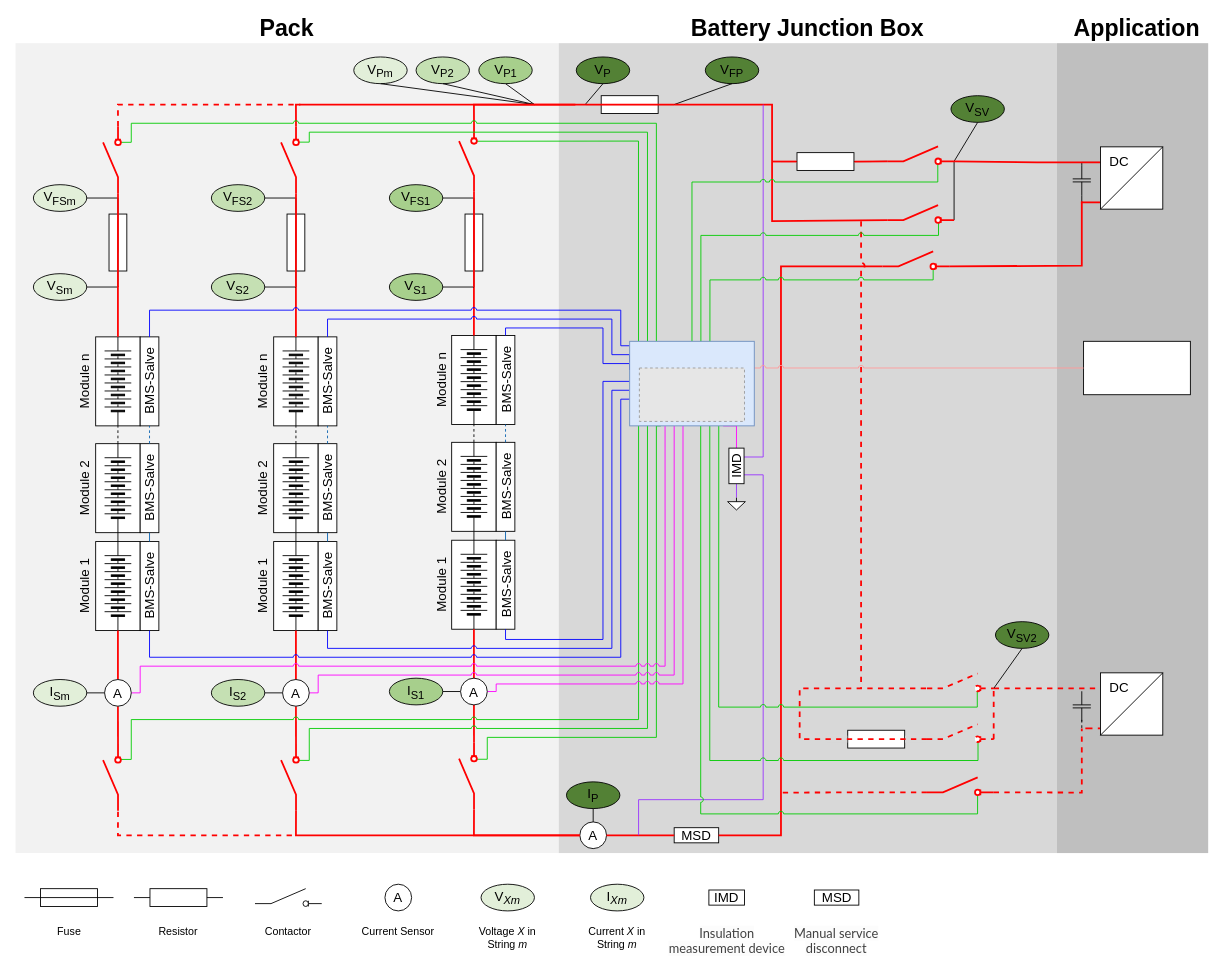
This 1223x973 diagram has some shape labels left out. Grey dashed boxes stand in for pictures. The box of each missing label's shape, as (x1, y1, x2, y2) in pixels:
Application Control Unit: (1083, 340, 1190, 395)
BMS: (629, 340, 754, 426)
